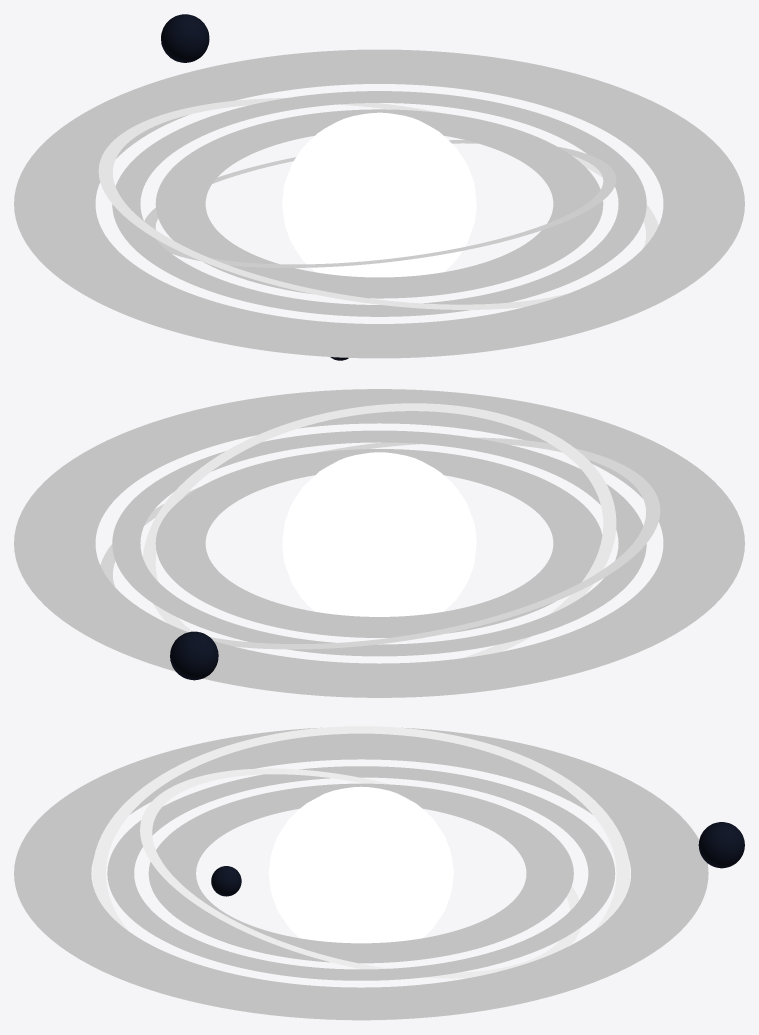
Rendered from Location_Orbit.glb.
3 views of the same model, one above another, from view 1: azimuth 30°, elevation 25°; view 2: azimuth 150°, elevation 25°; view 3: azimuth 270°, elevation 25° (orthographic). The views are drawn at different scales.
Parts seen in each view (by area): view 1: RingOfSimbad_1, Planet, RingOfSimbad_3, RingOfSimbad_2, Ring_Big, Ring_Litle, Big; view 2: RingOfSimbad_1, Planet, RingOfSimbad_3, RingOfSimbad_2, Ring_Litle, Ring_Big, Big; view 3: RingOfSimbad_1, Planet, RingOfSimbad_3, RingOfSimbad_2, Ring_Big, Ring_Litle, Big, Litlle.
Part boxes in pixels (bbox=[...]): RingOfSimbad_1: bbox=[14, 49, 744, 358]; Planet: bbox=[282, 112, 476, 277]; RingOfSimbad_3: bbox=[155, 109, 603, 298]; RingOfSimbad_2: bbox=[112, 91, 646, 316]; Ring_Big: bbox=[98, 98, 658, 309]; Ring_Litle: bbox=[144, 140, 616, 267]; Big: bbox=[161, 14, 209, 62]; RingOfSimbad_1: bbox=[14, 389, 744, 697]; Planet: bbox=[282, 452, 476, 616]; RingOfSimbad_3: bbox=[155, 449, 602, 637]; RingOfSimbad_2: bbox=[112, 430, 646, 656]; Ring_Litle: bbox=[143, 403, 616, 658]; Ring_Big: bbox=[100, 437, 660, 649]; Big: bbox=[170, 631, 218, 680]; RingOfSimbad_1: bbox=[14, 727, 708, 1020]; Planet: bbox=[268, 786, 453, 943]; RingOfSimbad_3: bbox=[148, 783, 573, 963]; RingOfSimbad_2: bbox=[107, 766, 615, 980]; Ring_Big: bbox=[92, 726, 630, 1020]; Ring_Litle: bbox=[140, 768, 580, 978]; Big: bbox=[698, 822, 744, 868]; Litlle: bbox=[211, 866, 241, 896].
Bounding box in the file's own units: 3000 × 740 × 3157.
